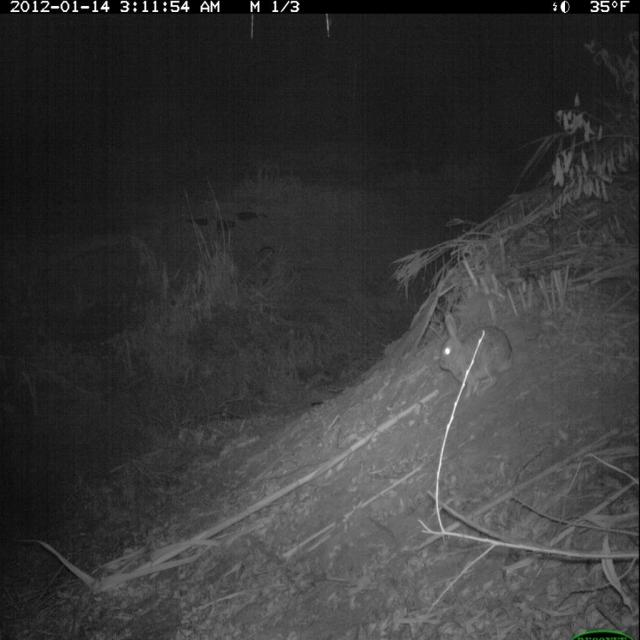rabbit: (436, 300, 520, 409)
